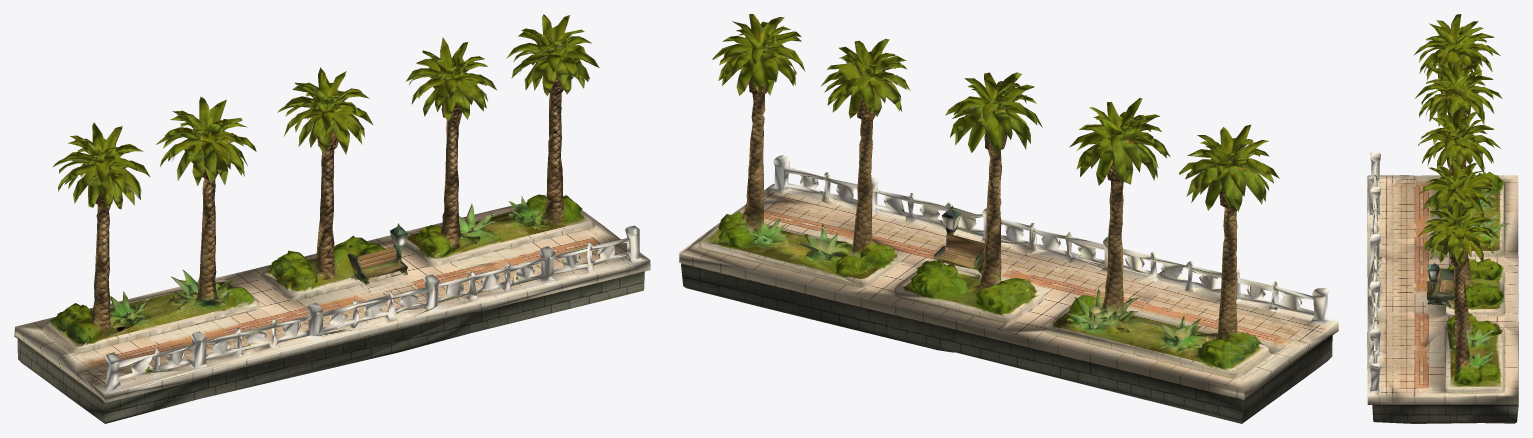
File: city_izmir_kordon_edge.glb
3 views of the same model, side by side, from view 1: azimuth 30°, elevation 25°; view 2: azimuth 150°, elevation 25°; view 3: azimuth 270°, elevation 25° (orthographic). The views are drawn at different scales.
Parts seen in each view (by area): view 1: Mesh1.0; view 2: Mesh1.0; view 3: Mesh1.0.
Boxes of the visible parts, box(x1,y1,x2,y2) form: Mesh1.0: box(14, 14, 650, 423); Mesh1.0: box(679, 14, 1338, 423); Mesh1.0: box(1367, 14, 1518, 423).
Bounding box in the file's own units: 16.45 × 7 × 4.76.
1 material, 1 textured.
